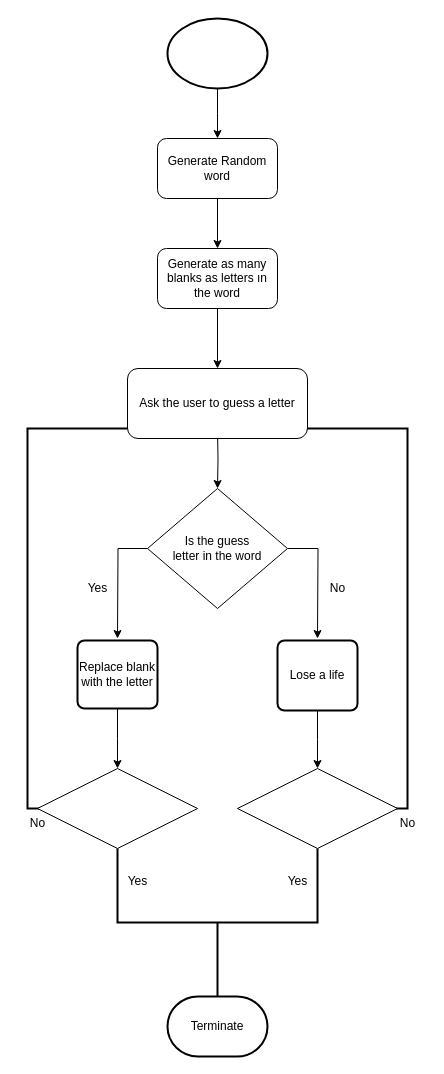
Some shapes in this 444 by 1074 pixel diagram are drawn without their labels. Here are the shapes that lost their labels. From the top down, the centre of each, then its label:
At point (217, 53): "Start".
At point (117, 808): "Are all the blanks filled".
At point (317, 808): "Have they run out of the lives".
